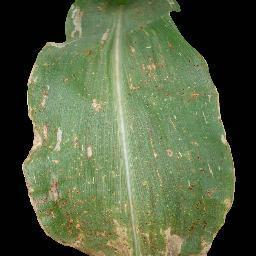Corn_Common_Rust: (21, 62, 70, 256), (187, 73, 237, 219), (69, 219, 226, 256), (127, 42, 185, 100), (35, 0, 85, 62), (93, 0, 185, 15), (139, 170, 164, 220), (70, 200, 132, 218), (70, 135, 96, 169), (96, 24, 113, 52), (70, 175, 89, 200), (147, 130, 160, 160), (89, 97, 104, 116), (166, 146, 184, 161)
